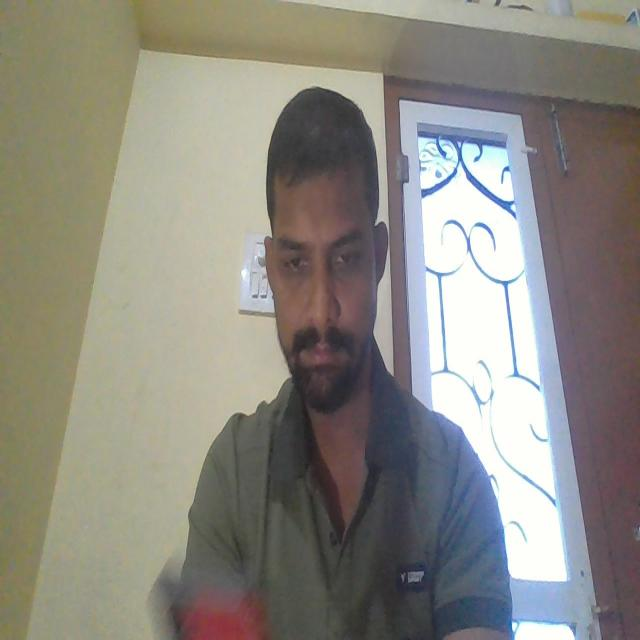phone: (151, 578, 265, 640)
